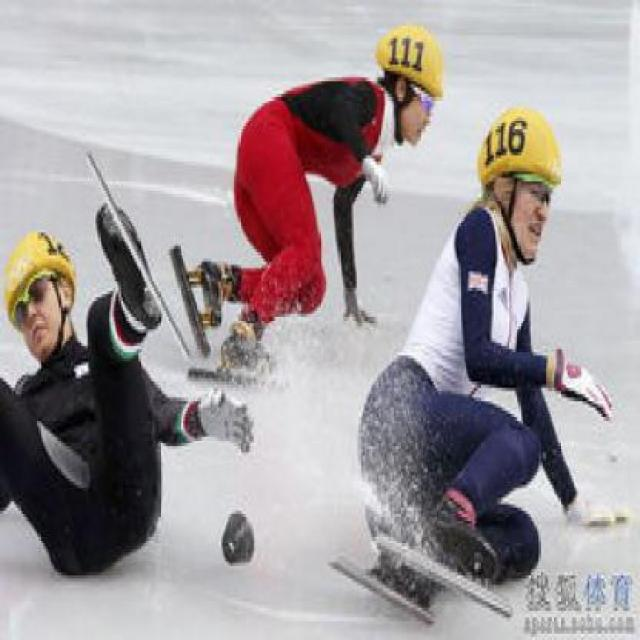fall: (0, 190, 248, 582)
